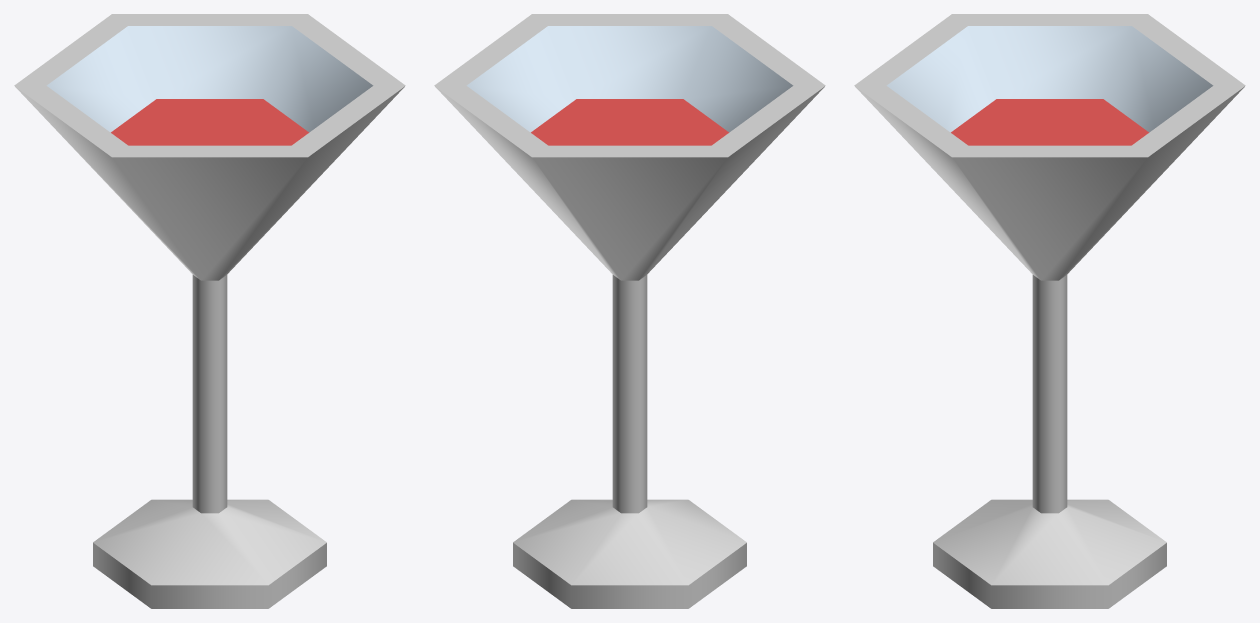
File: cocktail.GLB
The picture shows the model from 3 angles, left to right: view 1: azimuth 30°, elevation 25°; view 2: azimuth 150°, elevation 25°; view 3: azimuth 270°, elevation 25°; orthographic projection.
Parts seen in each view (by area): view 1: cocktail; view 2: cocktail; view 3: cocktail.
Part boxes in pixels (x1,y1,x2,y2): cocktail: [14, 14, 405, 608]; cocktail: [434, 14, 825, 608]; cocktail: [854, 14, 1245, 608].
Size of the model in its own units: 0.2607 by 0.4072 by 0.301.
